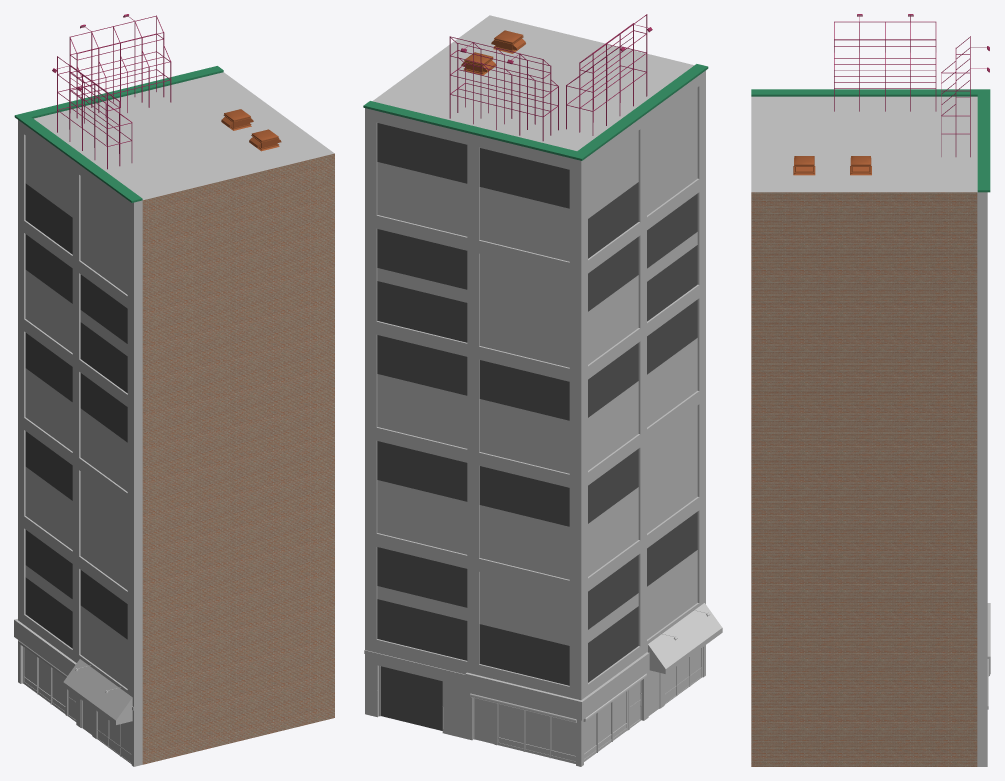
The model's file is mcp_building_29_LOD_0.FBX.
The picture shows the model from 3 angles, left to right: view 1: azimuth 30°, elevation 25°; view 2: azimuth 150°, elevation 25°; view 3: azimuth 270°, elevation 25°; orthographic projection. The views are drawn at different scales.
Parts seen in each view (by area): view 1: mcp_building_29_walls, mcp_building_29, mcp_building_29_billboards, mcp_building_29_props_03; view 2: mcp_building_29, mcp_building_29_walls, mcp_building_29_billboards, mcp_building_29_props_04, mcp_building_29_props_03; view 3: mcp_building_29_walls, mcp_building_29, mcp_building_29_billboards, mcp_building_29_props_03.
Part boxes in pixels (x1,y1,x2,y2): mcp_building_29_walls: (14, 66, 334, 766); mcp_building_29: (14, 120, 142, 763); mcp_building_29_billboards: (52, 14, 171, 169); mcp_building_29_props_03: (221, 109, 281, 151); mcp_building_29: (364, 70, 722, 763); mcp_building_29_walls: (363, 15, 708, 766); mcp_building_29_billboards: (449, 14, 652, 141); mcp_building_29_props_04: (380, 666, 442, 730); mcp_building_29_props_03: (461, 30, 525, 75); mcp_building_29_walls: (751, 89, 990, 766); mcp_building_29: (977, 192, 990, 709); mcp_building_29_billboards: (834, 14, 989, 157); mcp_building_29_props_03: (793, 156, 871, 175).
Size of the model in its own units: 1638 by 4611 by 1533.
